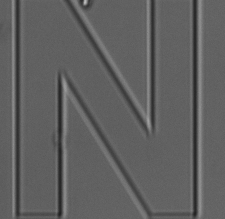Living Cell: (76, 1, 94, 9)
